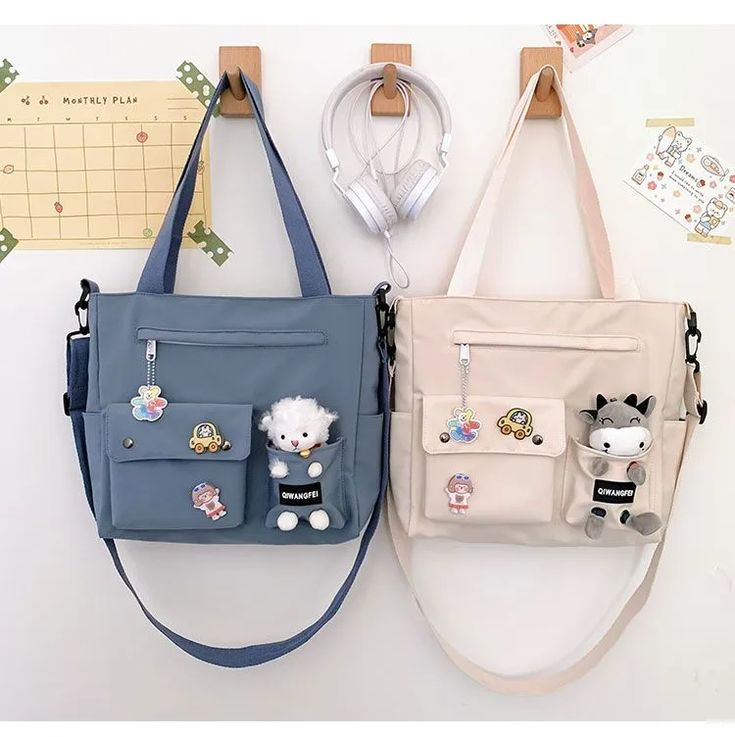nylon: (64, 65, 708, 697)
